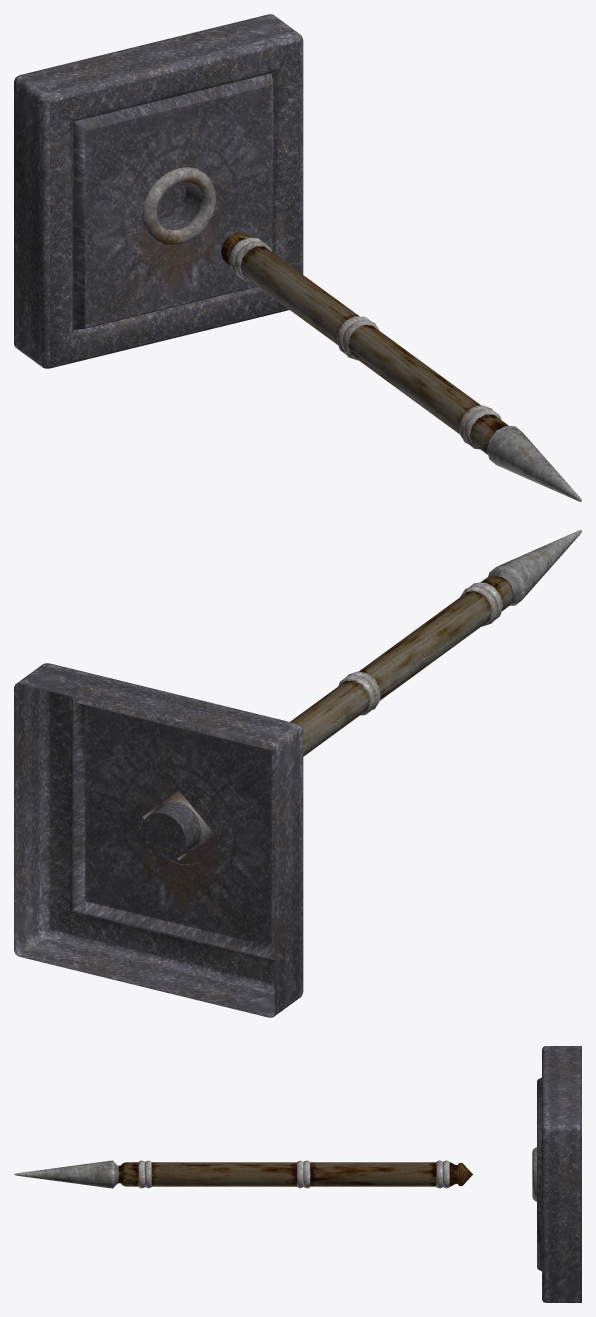
The model's file is Spear_trap_wip.glb.
3 views of the same model, one above another, from view 1: azimuth 30°, elevation 25°; view 2: azimuth 150°, elevation 25°; view 3: azimuth 270°, elevation 25° (orthographic). The views are drawn at different scales.
Visible parts, largest first — view 1: SpearTrap_01.002, Spear_ammo.002; view 2: SpearTrap_01.002, Spear_ammo.002; view 3: SpearTrap_01.002, Spear_ammo.002.
Boxes of the visible parts, x1,y1,x2,y2 form: SpearTrap_01.002: (14,14,303,368); Spear_ammo.002: (221,232,581,501); SpearTrap_01.002: (14,663,303,1017); Spear_ammo.002: (290,530,581,756); SpearTrap_01.002: (532,1046,581,1302); Spear_ammo.002: (14,1160,472,1188).
Size of the model in its own units: 0.36 by 0.36 by 1.05.
1 material, 1 textured.
